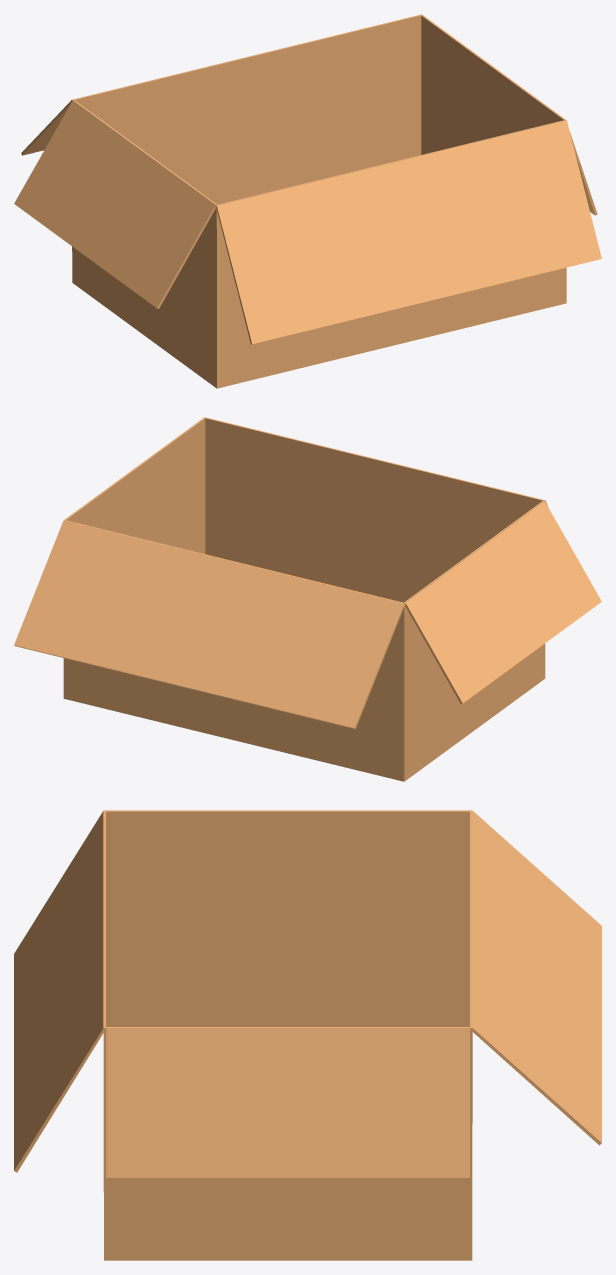
File: open box.fbx
The picture shows the model from 3 angles, top to bottom: view 1: azimuth 30°, elevation 25°; view 2: azimuth 150°, elevation 25°; view 3: azimuth 270°, elevation 25°; orthographic projection. The views are drawn at different scales.
Visible parts, largest first — view 1: Plane.013; view 2: Plane.013; view 3: Plane.013.
Part boxes in pixels (x1,y1,x2,y2): Plane.013: (14, 14, 601, 388); Plane.013: (14, 417, 601, 781); Plane.013: (14, 810, 601, 1260).
Bounding box in the file's own units: 41.49 × 16.45 × 37.66.
